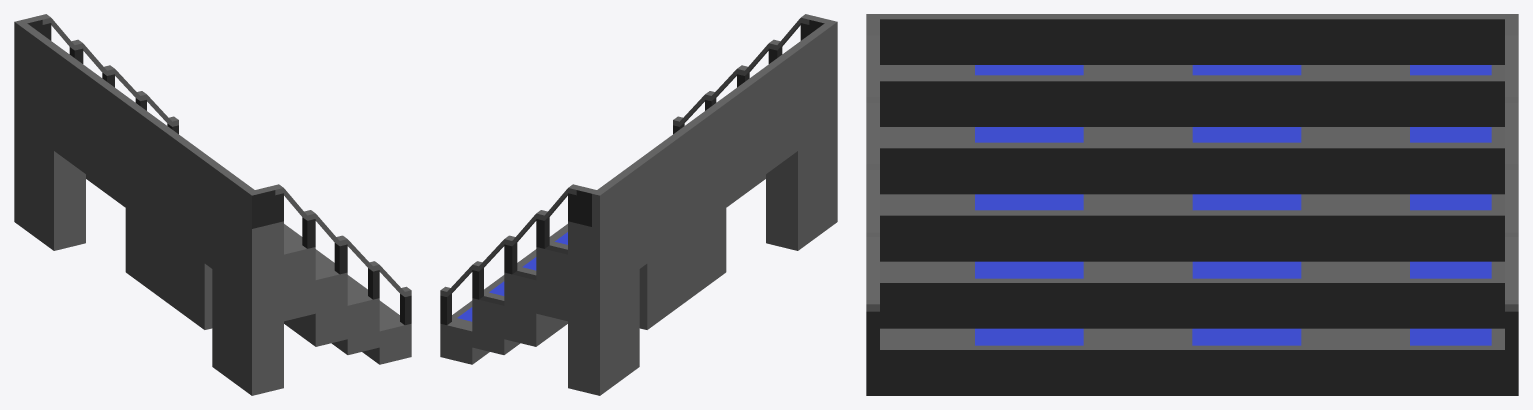
Rendered from racetrack_stands.fbx.
The picture shows the model from 3 angles, left to right: view 1: azimuth 30°, elevation 25°; view 2: azimuth 150°, elevation 25°; view 3: azimuth 270°, elevation 25°; orthographic projection. The views are drawn at different scales.
Visible parts, largest first — view 1: Stands; view 2: Stands; view 3: Stands.
Part boxes in pixels (x1,y1,x2,y2): Stands: (14,14,411,395); Stands: (440,14,837,395); Stands: (866,14,1518,395).
Bounding box in the file's own units: 1000 × 1200 × 2580.
